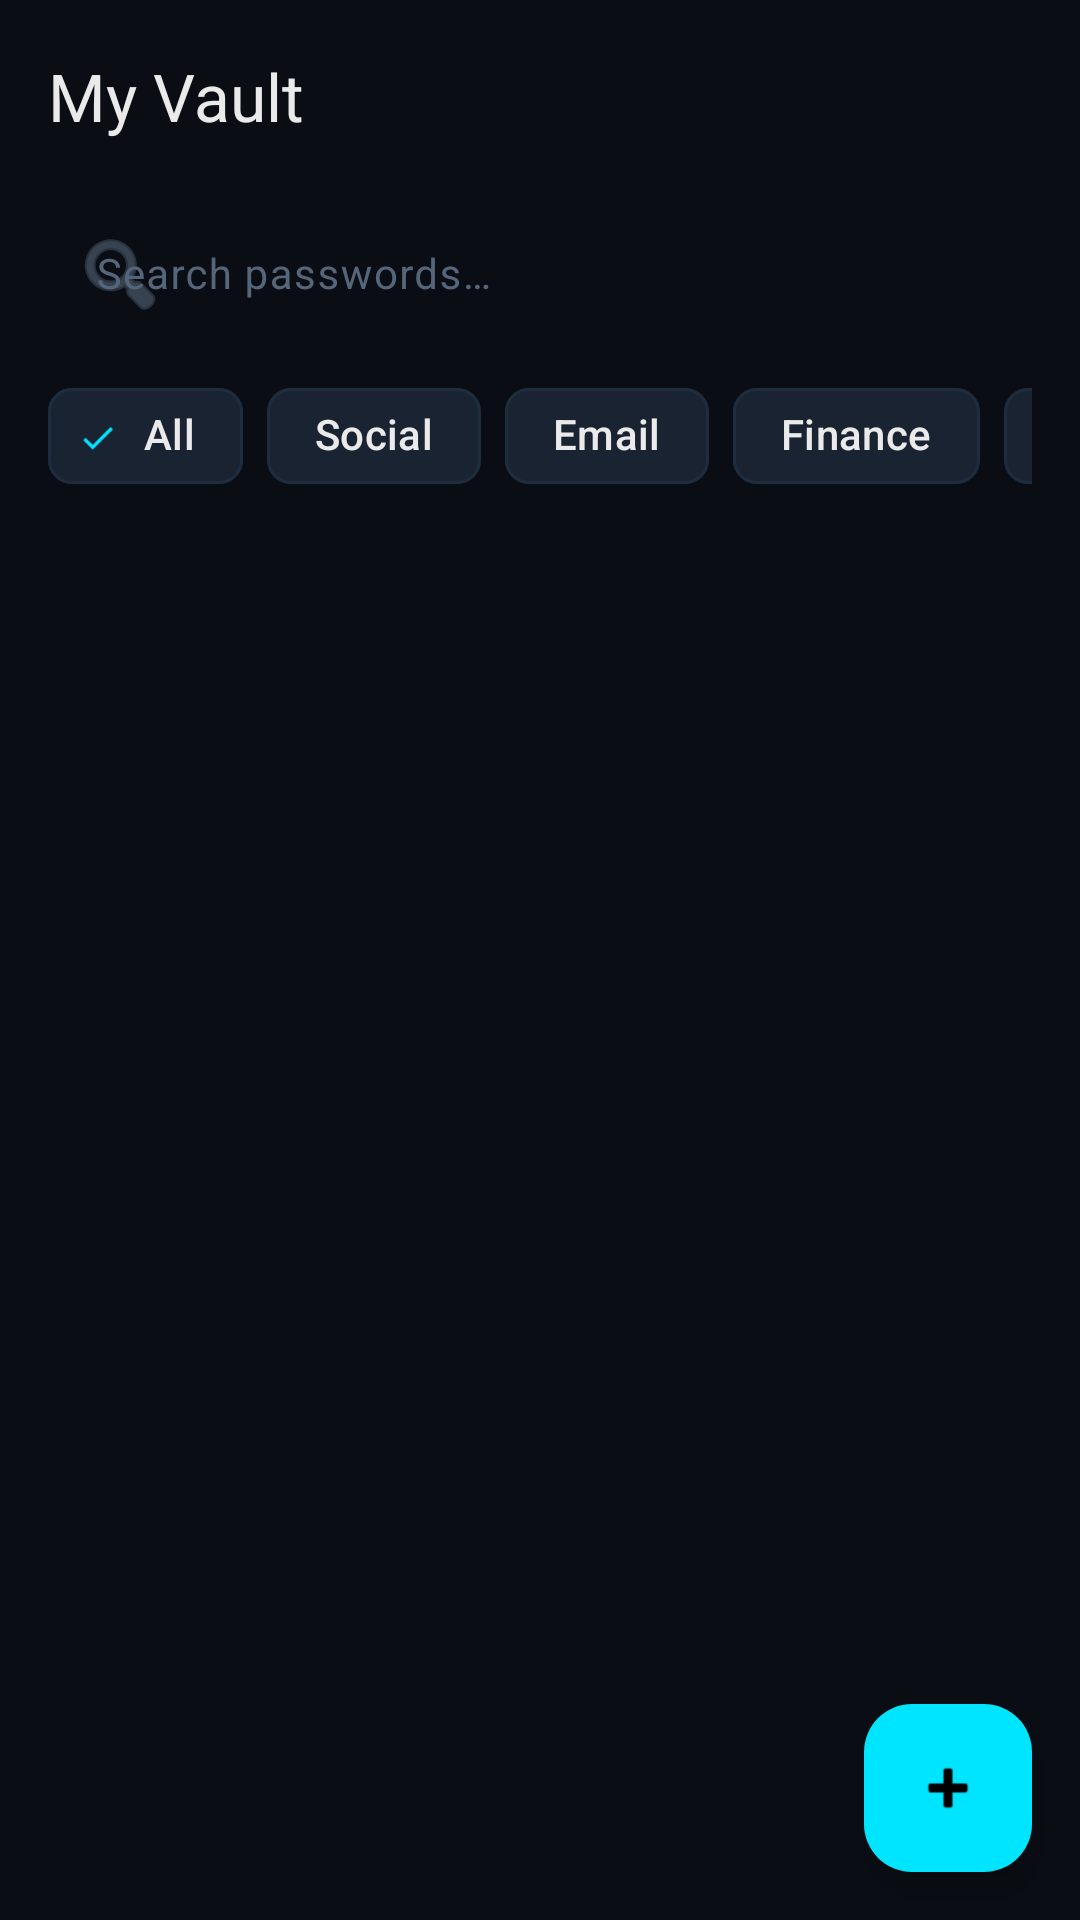

Icons on this 1080w x 1920h Android screen, each with the point to tap as (x,y):
Add password: (948,1788)
